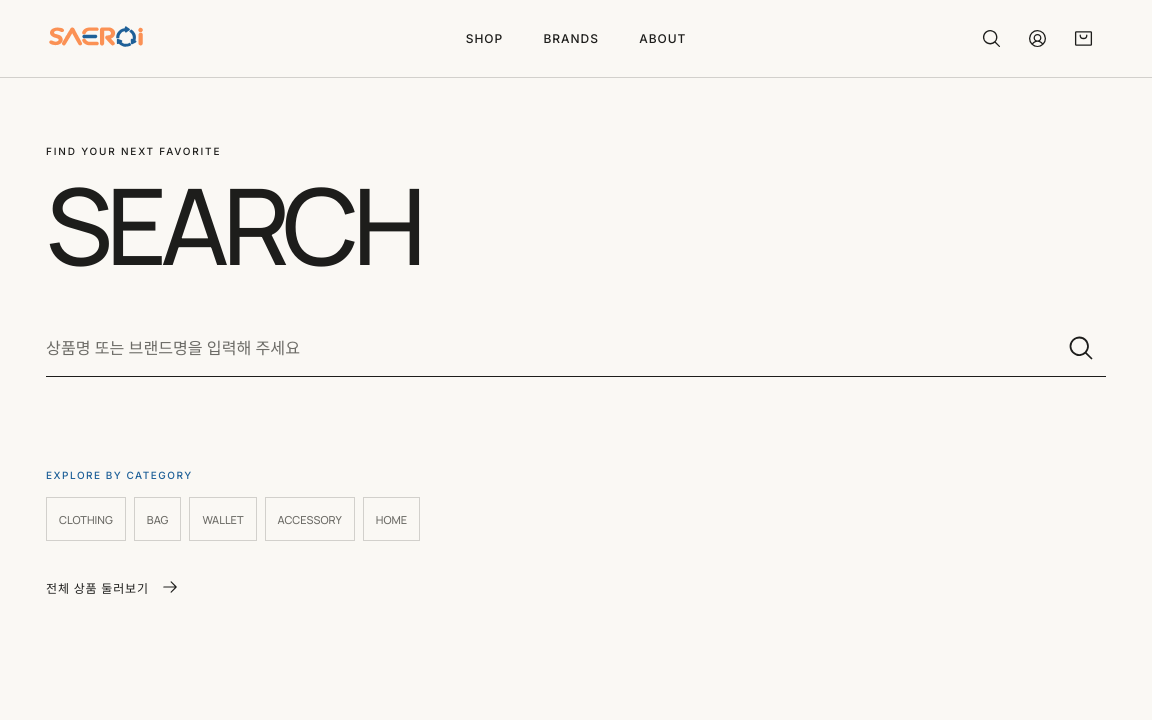
Scenario: public product search › submits an encoded keyword to URL and uses the existing public list API
Type "  토트 & REWEAVE  " into the search field at point(541, 348), box [46,320,1036,376]
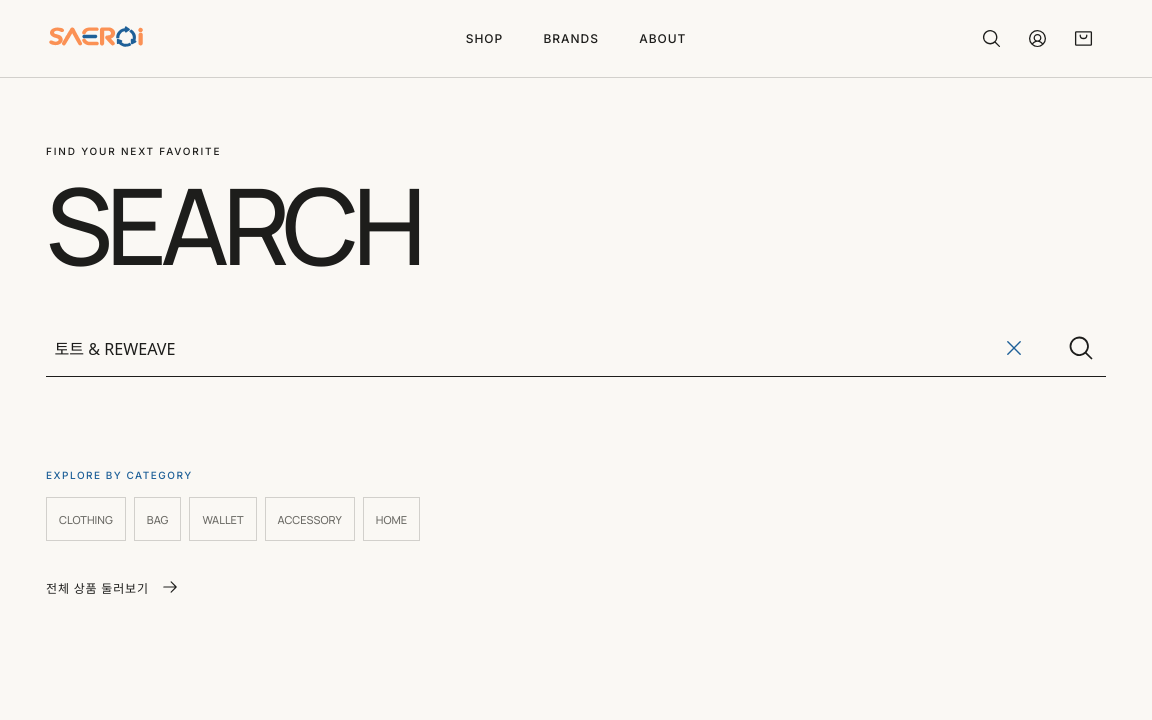
Submit the form, box [46,320,1106,378]
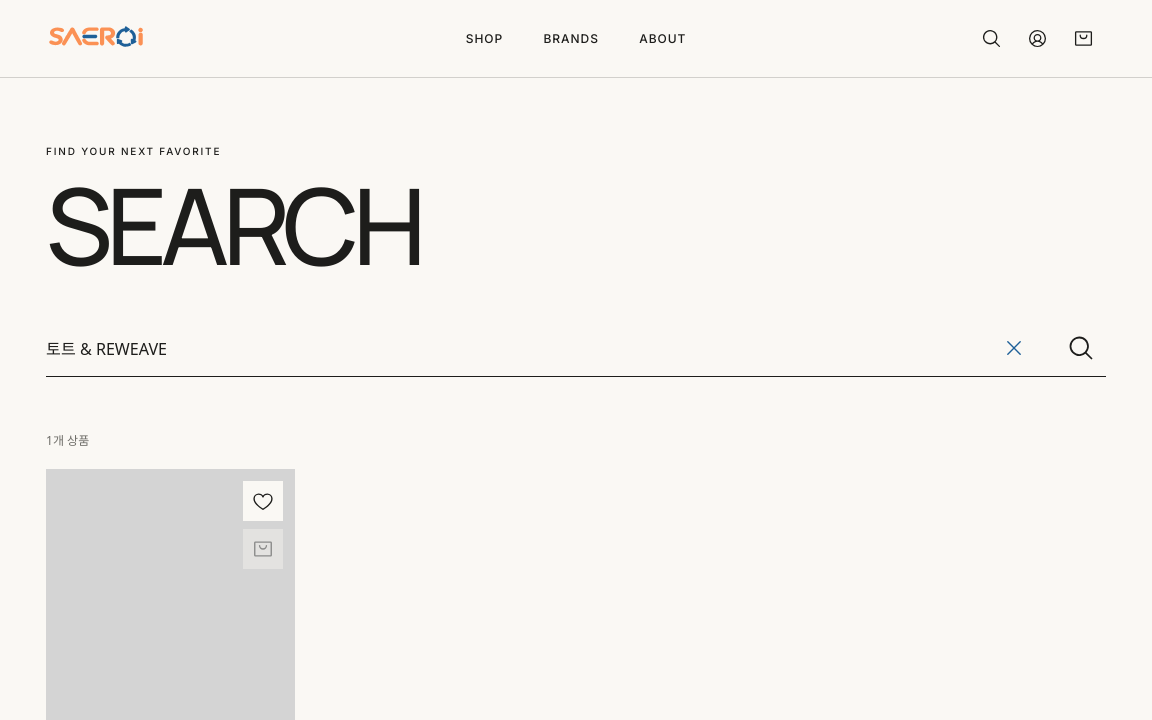
Expected: the text "1개 상품" is shown, [46,432,89,450]
